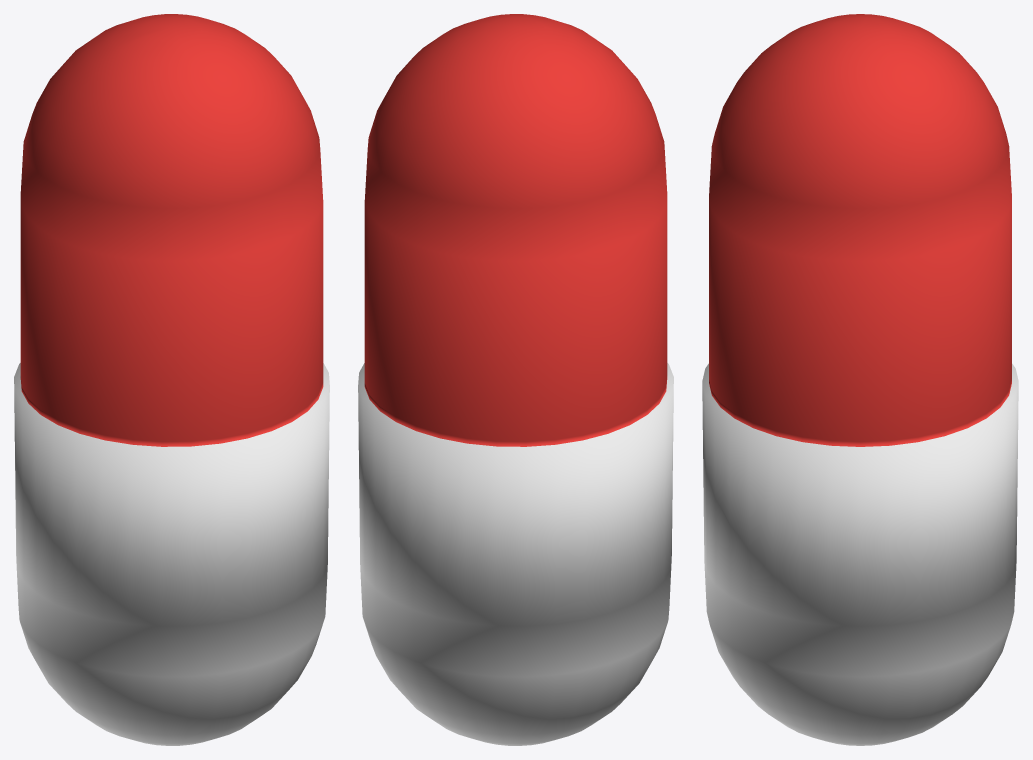
Rendered from pills 1.fbx.
3 renders of one model, left to right at view 1: azimuth 30°, elevation 25°; view 2: azimuth 150°, elevation 25°; view 3: azimuth 270°, elevation 25°, orthographic.
Parts seen in each view (by area): view 1: Cylinder; view 2: Cylinder; view 3: Cylinder.
Boxes of the visible parts, x1,y1,x2,y2 form: Cylinder: (14, 14, 329, 745); Cylinder: (358, 14, 673, 745); Cylinder: (702, 14, 1018, 745).
Bounding box in the file's own units: 100 × 246 × 100.
